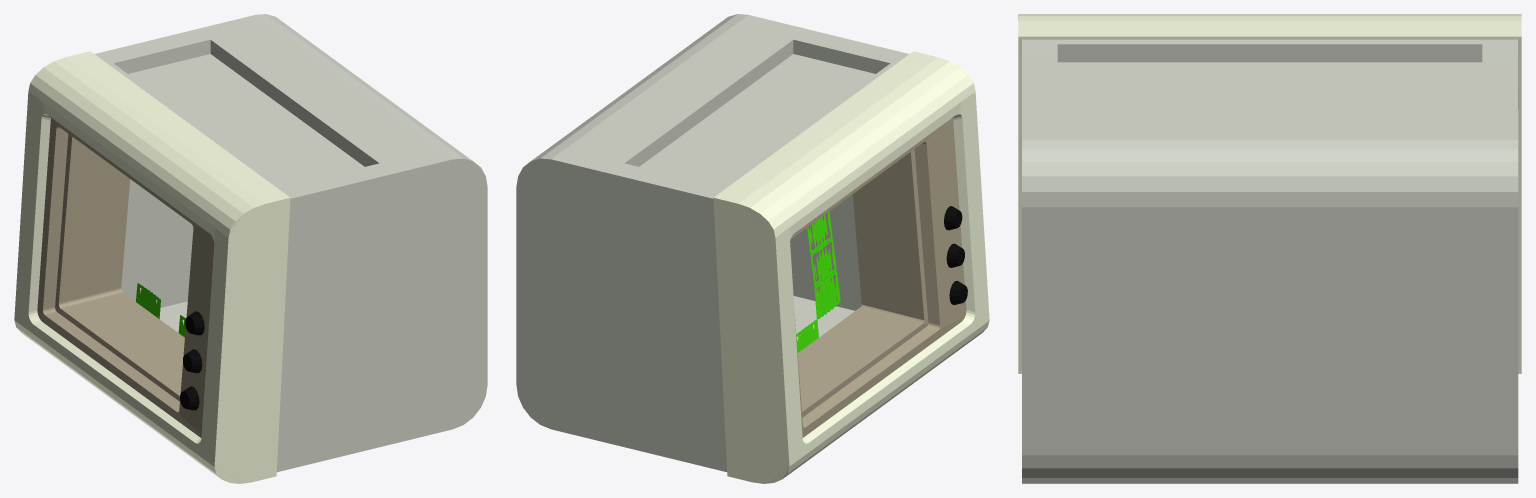
The model's file is monitor.obj.
The picture shows the model from 3 angles, left to right: view 1: azimuth 30°, elevation 25°; view 2: azimuth 150°, elevation 25°; view 3: azimuth 270°, elevation 25°; orthographic projection. The views are drawn at different scales.
Size of the model in its own units: 0.0211 by 0.02 by 0.0264.
Materials: 5 (1 with a texture image).
